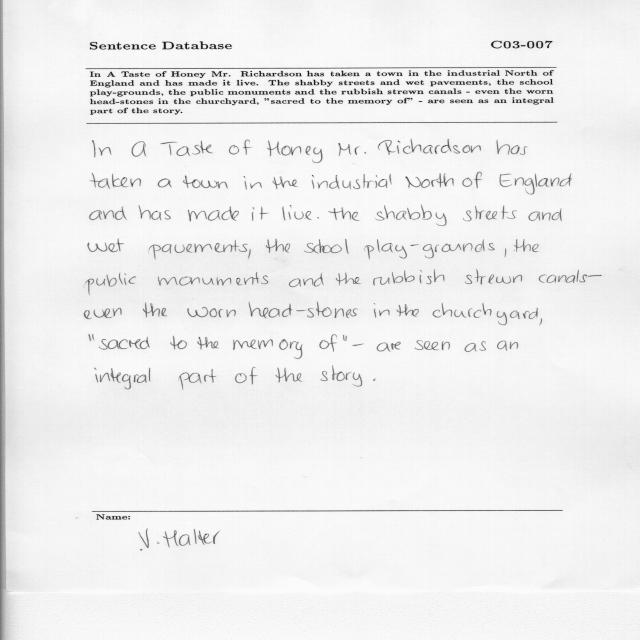word: (365, 239, 495, 259), (433, 303, 538, 325), (149, 240, 248, 259), (249, 302, 358, 318), (378, 139, 481, 155), (500, 174, 572, 195), (375, 205, 447, 226), (158, 272, 269, 285), (233, 339, 303, 359), (267, 141, 322, 163), (95, 368, 150, 390), (312, 174, 392, 189), (373, 270, 444, 286), (86, 273, 136, 295), (463, 206, 517, 222), (321, 366, 362, 387), (465, 270, 522, 285), (179, 369, 217, 390), (160, 141, 213, 156), (90, 173, 141, 188), (188, 206, 239, 221), (405, 173, 454, 188), (304, 239, 349, 254), (99, 337, 150, 350), (183, 175, 228, 189), (539, 270, 587, 283), (289, 273, 324, 287), (187, 307, 236, 317), (90, 207, 127, 220), (139, 206, 171, 221), (282, 205, 312, 221), (88, 239, 124, 252), (497, 140, 527, 155), (528, 208, 562, 221), (329, 207, 360, 221), (84, 308, 122, 319), (276, 368, 302, 383), (235, 367, 257, 384), (143, 303, 167, 318), (339, 143, 366, 156), (415, 340, 450, 350), (229, 140, 252, 155), (266, 239, 290, 253), (514, 239, 539, 252), (336, 273, 361, 286), (320, 334, 338, 352), (93, 140, 112, 157), (462, 172, 482, 188), (273, 177, 298, 189), (397, 304, 419, 317), (197, 337, 219, 350), (243, 176, 262, 190), (464, 341, 486, 352), (132, 141, 147, 157), (377, 342, 401, 352), (252, 207, 269, 221), (170, 336, 187, 350), (374, 303, 389, 318), (497, 341, 518, 351), (158, 179, 172, 188), (89, 334, 94, 341), (248, 249, 251, 259), (588, 275, 602, 277), (343, 335, 347, 341), (352, 344, 363, 346), (539, 318, 542, 325), (505, 249, 506, 258), (373, 378, 376, 381), (317, 217, 319, 218)
